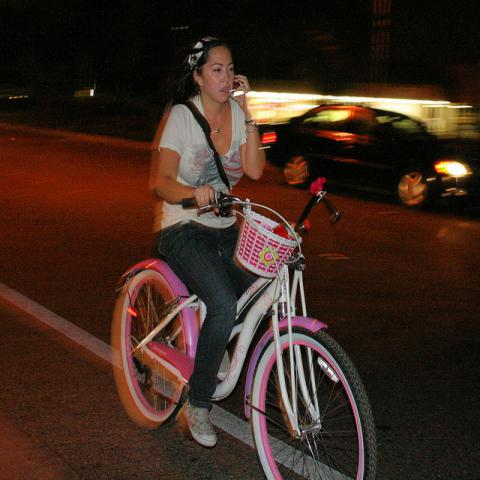car: (260, 104, 476, 206)
